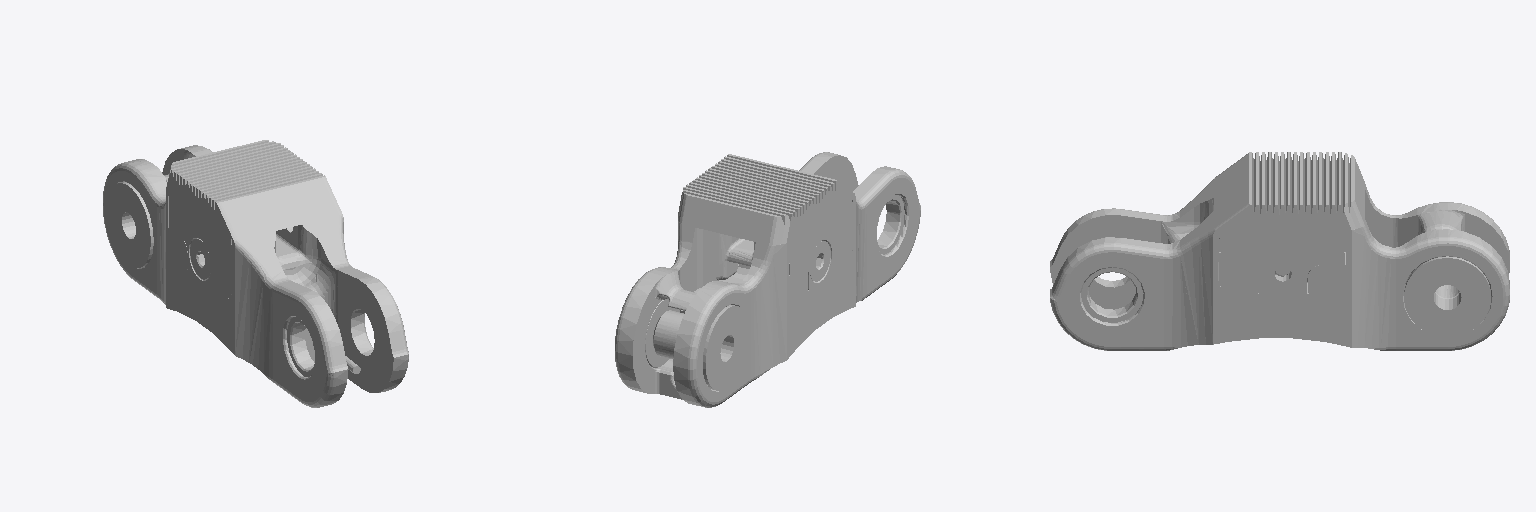
The model's file is if_proximal.obj.
3 views of the same model, side by side, from view 1: azimuth 30°, elevation 25°; view 2: azimuth 150°, elevation 25°; view 3: azimuth 270°, elevation 25° (orthographic).
Visible parts, largest first — view 1: index_proximal_base_SIH_right.017, index_backplate_SIH_right.014, index_proximal_spring_indication_SIH_right.022; view 2: index_proximal_base_SIH_right.017, index_backplate_SIH_right.014, index_proximal_spring_indication_SIH_right.022; view 3: index_proximal_base_SIH_right.017, index_backplate_SIH_right.014.
Boxes of the visible parts, box(x1,y1,x2,y2) form: index_proximal_base_SIH_right.017: box(103, 145, 408, 407); index_backplate_SIH_right.014: box(166, 140, 341, 287); index_proximal_spring_indication_SIH_right.022: box(190, 238, 360, 373); index_proximal_base_SIH_right.017: box(615, 152, 920, 407); index_backplate_SIH_right.014: box(678, 154, 854, 289); index_proximal_spring_indication_SIH_right.022: box(810, 241, 830, 281); index_proximal_base_SIH_right.017: box(1050, 179, 1509, 350); index_backplate_SIH_right.014: box(1214, 152, 1364, 293).
Size of the model in its own units: 18 by 24.5 by 65.99.